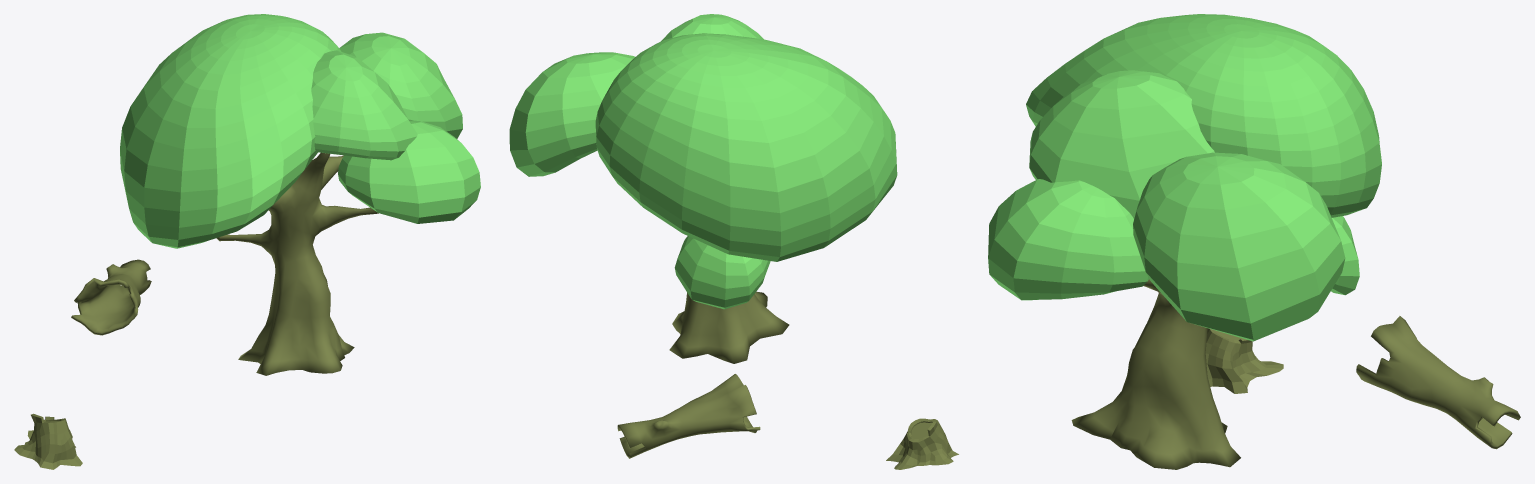
The model's file is trees.fbx.
3 views of the same model, side by side, from view 1: azimuth 30°, elevation 25°; view 2: azimuth 150°, elevation 25°; view 3: azimuth 270°, elevation 25° (orthographic). The views are drawn at different scales.
Parts seen in each view (by area): view 1: tree, dead trunk.002, dead trunk.001; view 2: tree, dead trunk.002, dead trunk.001; view 3: tree, dead trunk.002, dead trunk.001.
Boxes of the visible parts, bbox=[...] form: tree: bbox=[120, 14, 480, 375]; dead trunk.002: bbox=[71, 259, 151, 335]; dead trunk.001: bbox=[14, 413, 82, 469]; tree: bbox=[509, 14, 897, 363]; dead trunk.002: bbox=[617, 374, 760, 458]; dead trunk.001: bbox=[886, 418, 958, 469]; tree: bbox=[988, 14, 1381, 469]; dead trunk.002: bbox=[1356, 316, 1520, 449]; dead trunk.001: bbox=[1205, 328, 1283, 393].
Bounding box in the file's own units: 2155 × 1776 × 1796.
